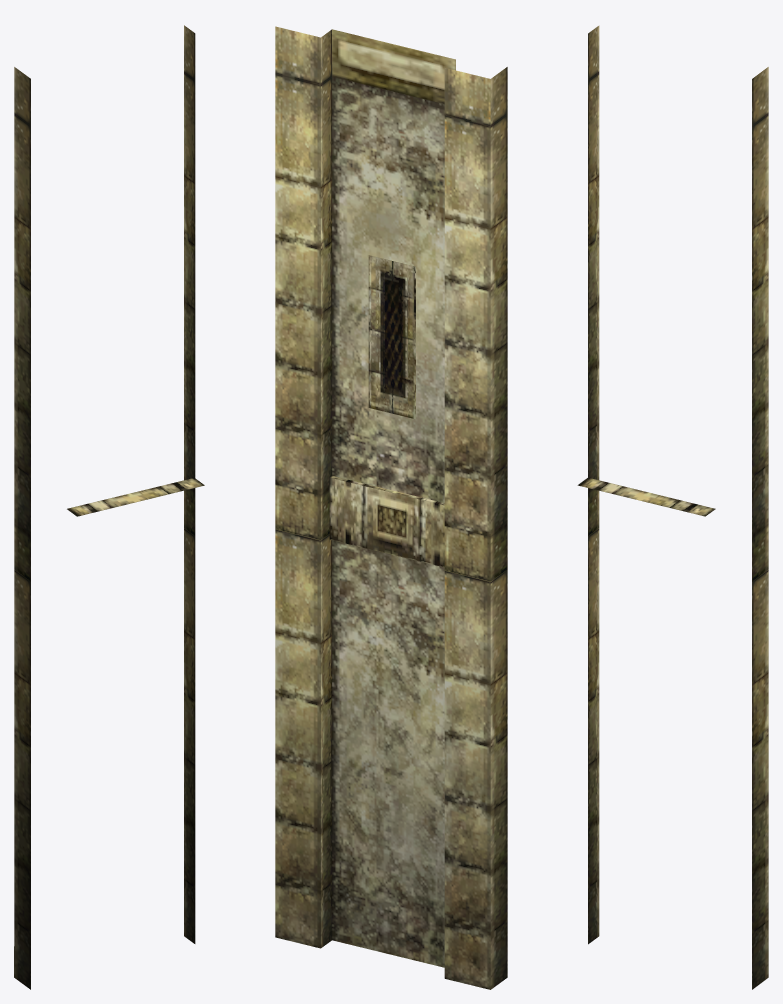
The model's file is OZ_09_wv_bldg01CJ.glb.
3 views of the same model, side by side, from view 1: azimuth 30°, elevation 25°; view 2: azimuth 150°, elevation 25°; view 3: azimuth 330°, elevation 25° (orthographic).
Visible parts, largest first — view 1: OM_09_wv_bldg01CJ; view 2: OM_09_wv_bldg01CJ; view 3: OM_09_wv_bldg01CJ.
Boxes of the visible parts, x1,y1,x2,y2 form: OM_09_wv_bldg01CJ: (14, 25, 204, 989); OM_09_wv_bldg01CJ: (275, 26, 507, 989); OM_09_wv_bldg01CJ: (577, 25, 768, 989).
Size of the model in its own units: 2.45 by 9.91 by 0.3833.
3 materials, 3 textured.
